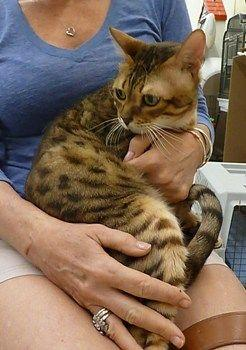bengal: (103, 20, 217, 146)
